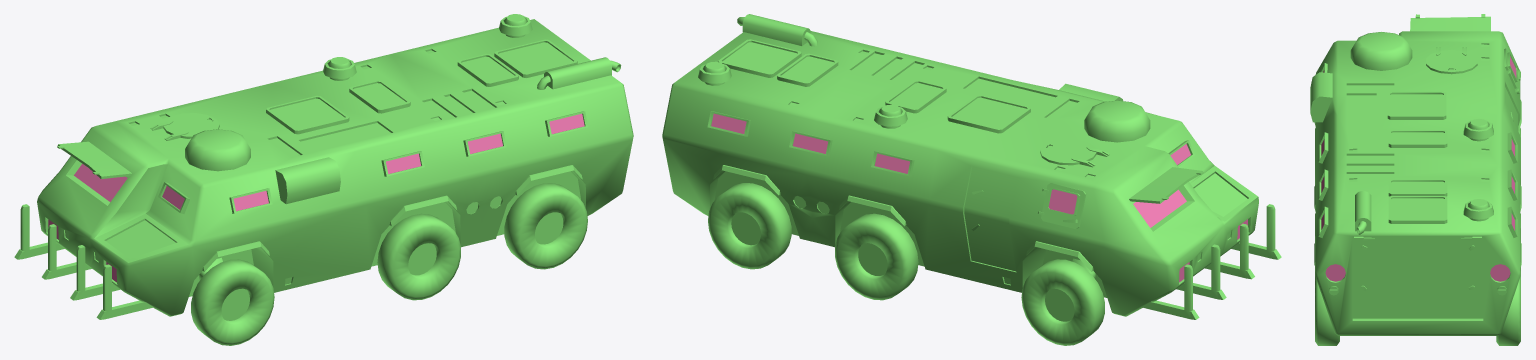
The model's file is combine_apc_old_6wheel.fbx.
3 renders of one model, left to right at view 1: azimuth 30°, elevation 25°; view 2: azimuth 150°, elevation 25°; view 3: azimuth 270°, elevation 25°, orthographic. The views are drawn at different scales.
Parts seen in each view (by area): view 1: APC_beta; view 2: APC_beta; view 3: APC_beta.
Part boxes in pixels (box(x1,y1,x2,y2)): APC_beta: box(14, 14, 633, 345); APC_beta: box(662, 14, 1281, 345); APC_beta: box(1310, 14, 1521, 345).
Size of the model in its own units: 950 by 350 by 302.
